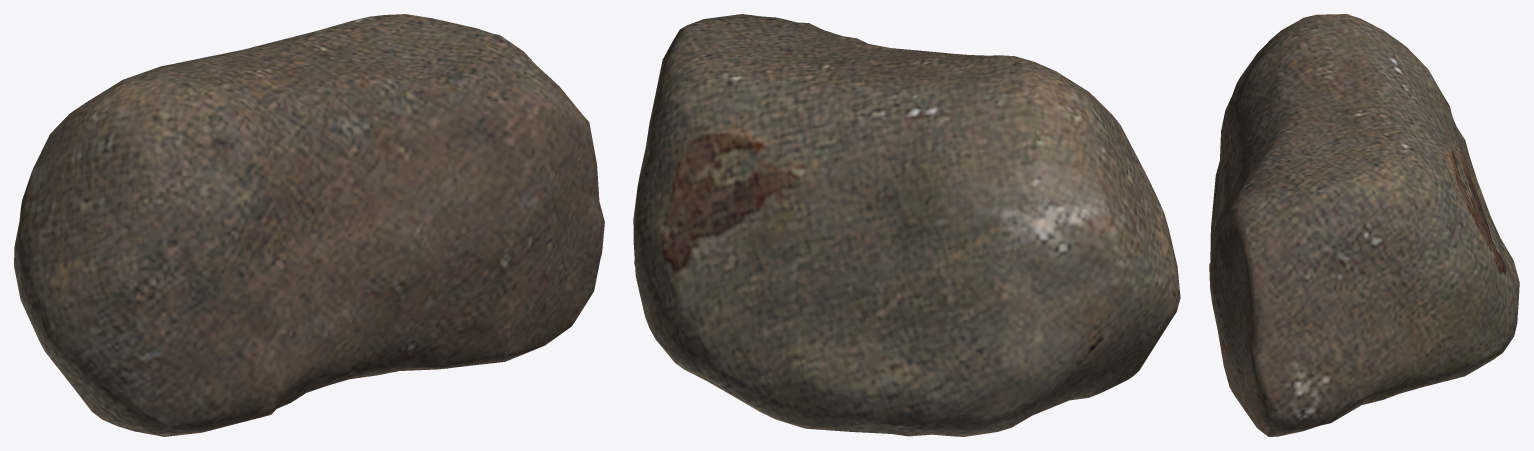
Rendered from SM_For_Sca_Rock_Set_01_C.gltf.
The picture shows the model from 3 angles, left to right: view 1: azimuth 30°, elevation 25°; view 2: azimuth 150°, elevation 25°; view 3: azimuth 270°, elevation 25°; orthographic projection. The views are drawn at different scales.
Visible parts, largest first — view 1: SM_For_Sca_Rock_Set_01_C; view 2: SM_For_Sca_Rock_Set_01_C; view 3: SM_For_Sca_Rock_Set_01_C.
Boxes of the visible parts, <box> form: SM_For_Sca_Rock_Set_01_C: <box>14,14,604,436</box>; SM_For_Sca_Rock_Set_01_C: <box>633,14,1180,436</box>; SM_For_Sca_Rock_Set_01_C: <box>1209,14,1519,436</box>.
Bounding box in the file's own units: 0.17 × 0.0978 × 0.1007.
1 material, 1 textured.
